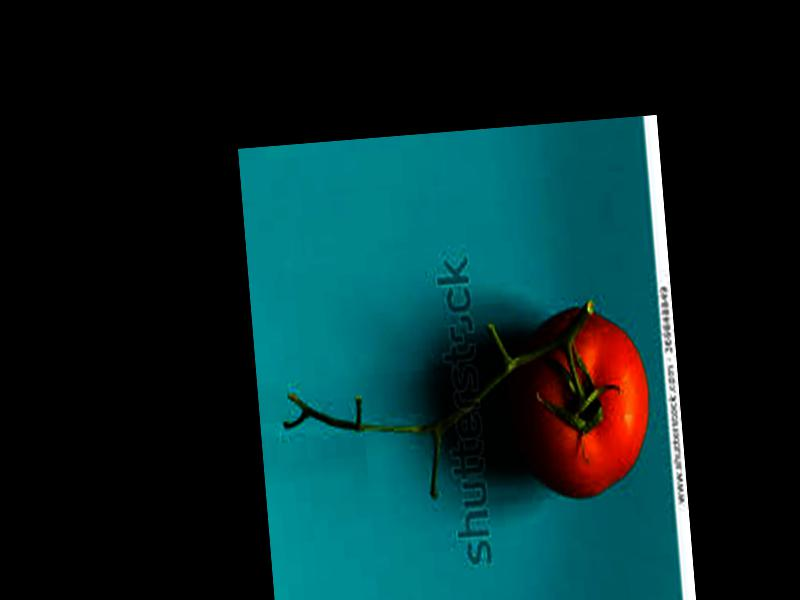Tomato: (504, 301, 654, 501)
